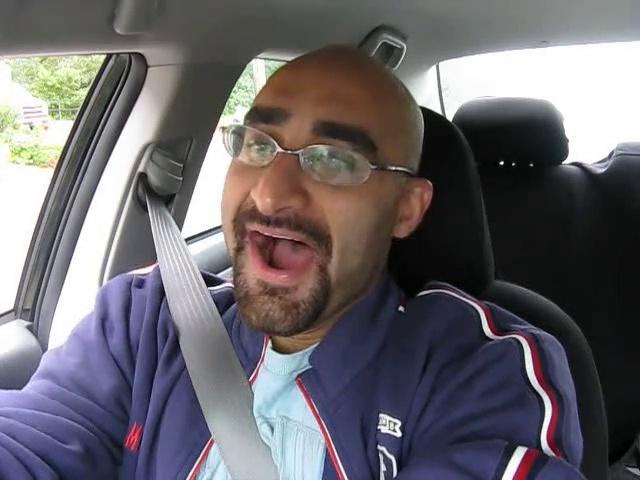open_eyeL: (228, 127, 287, 167)
open_eyeR: (296, 142, 374, 189)
yawn: (228, 212, 343, 295)
